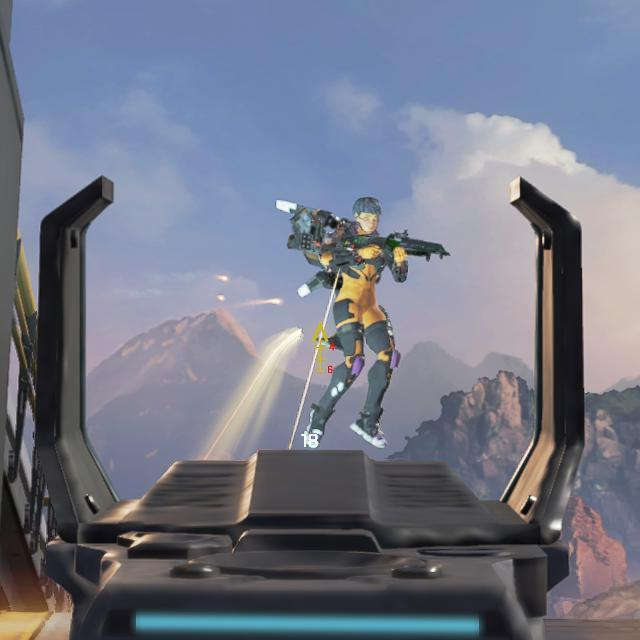avatar: (275, 195, 451, 449)
